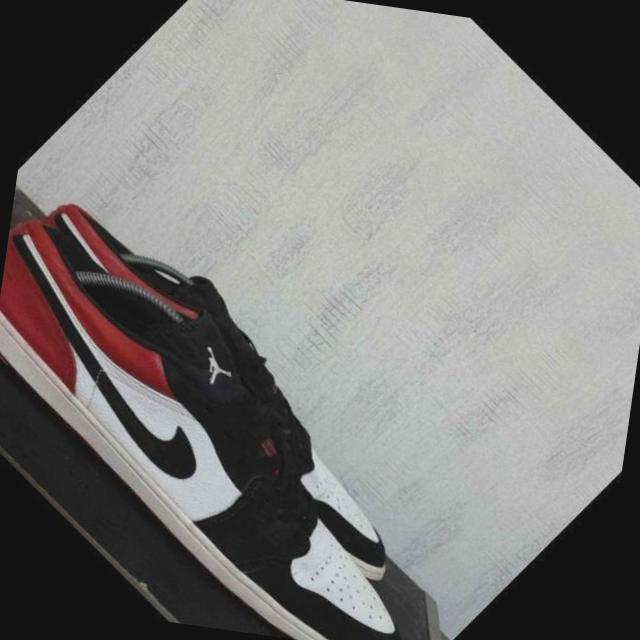nike_fake_jordan: (0, 159, 535, 640)
